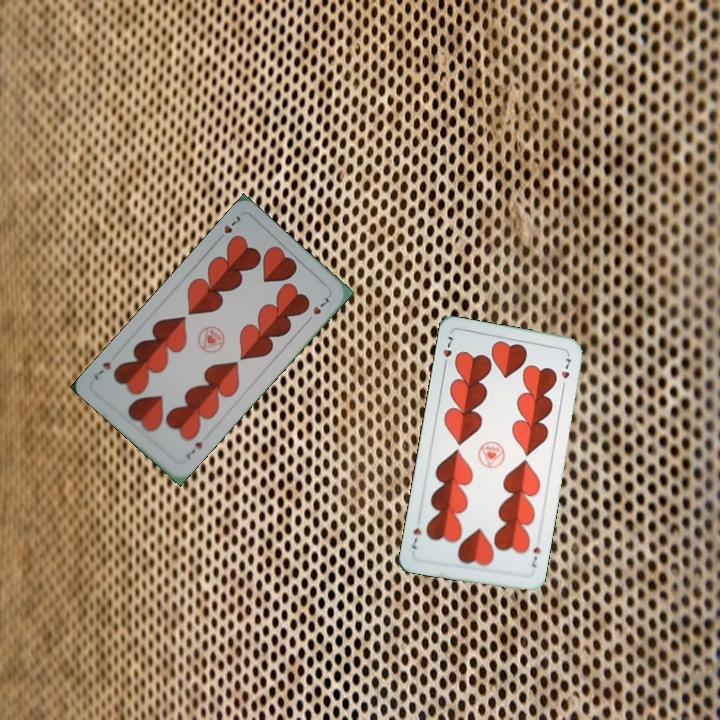H7: (213, 212, 243, 245), (439, 332, 455, 371), (182, 438, 205, 462), (527, 543, 543, 570)
